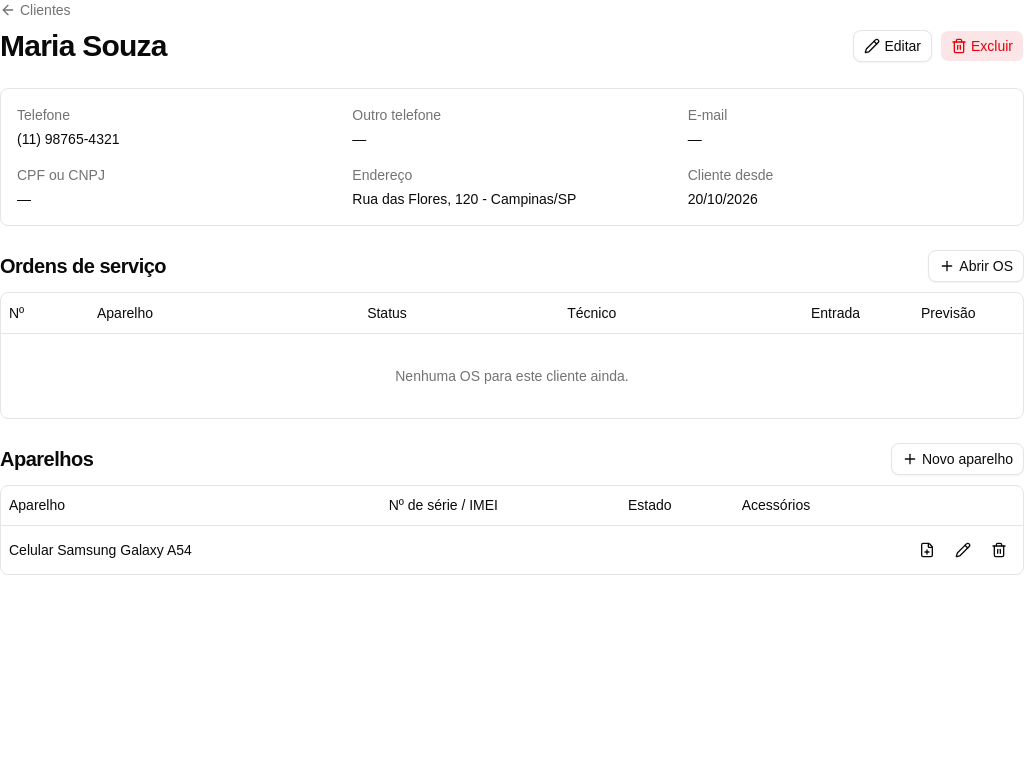
Test case: Customer Details › should explain why a customer with service orders stays
Click the button "Excluir".
click(982, 46)  # box [940,30,1023,62]
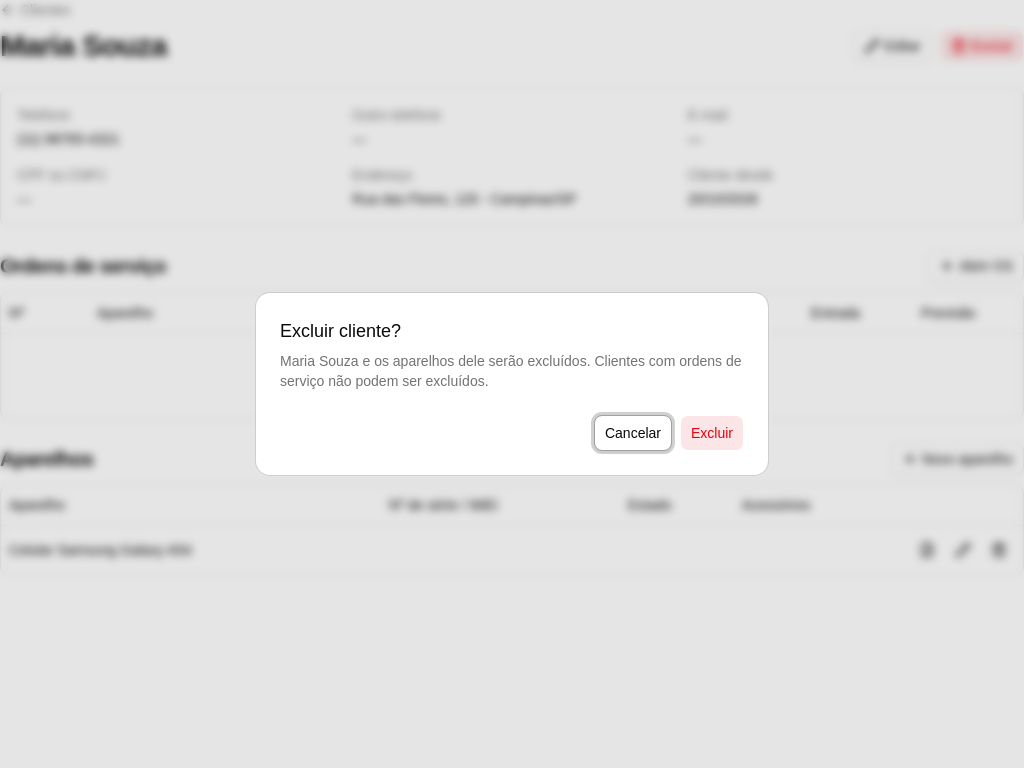
Click the button "Excluir".
click(712, 433)  # box [680,415,744,451]
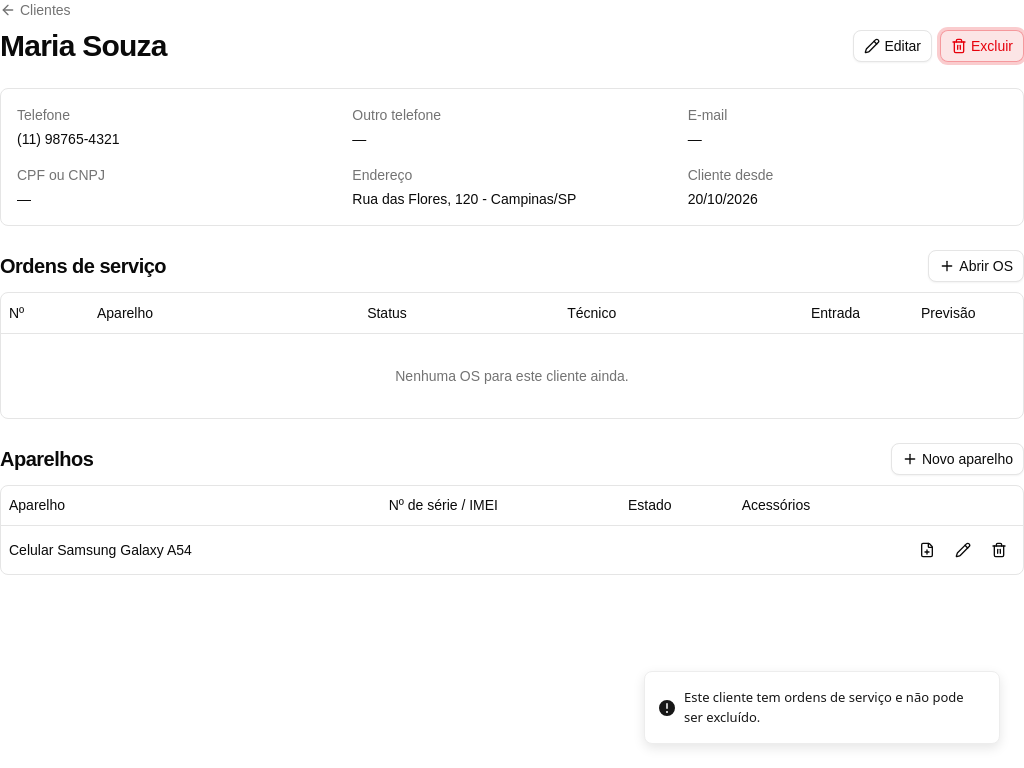
Expected: the heading "Maria Souza" is shown, [0,28,167,64]
Expected: the text "Este cliente tem ordens de serviço e não pode ser excluído." is shown, [684,688,983,727]
